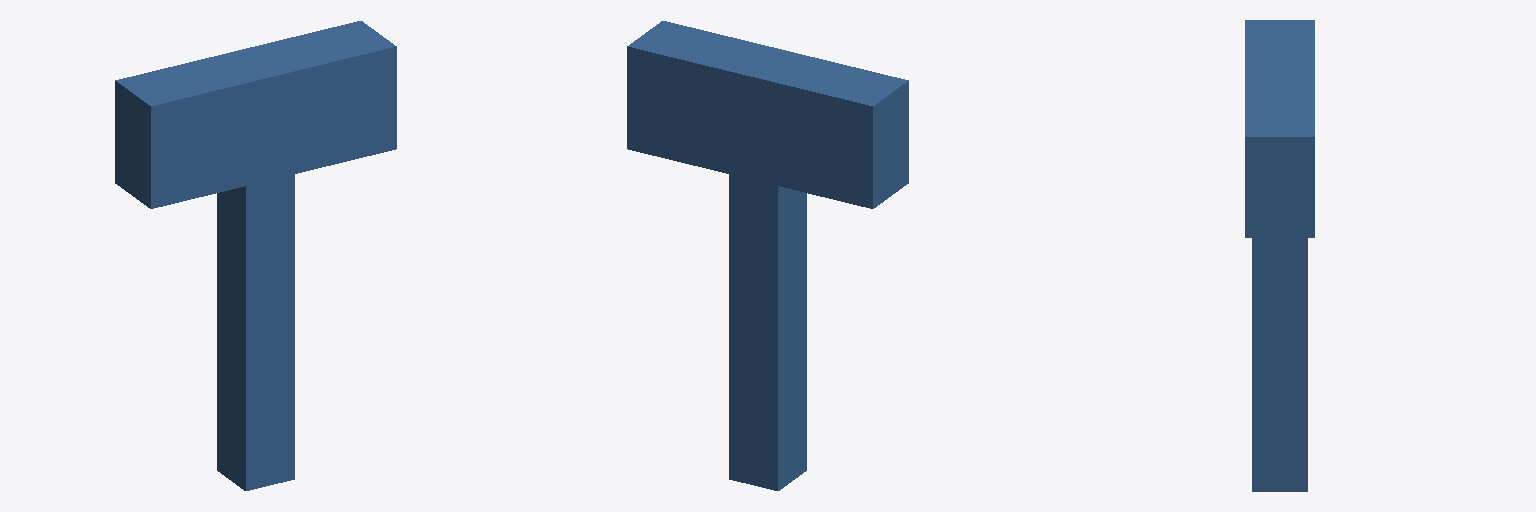
The robot description file, URDF, robot "hammer.urdf":
<?xml version="0.0" ?>
<robot name="hammer.urdf">
  <link name="baseLink">
    <contact>
      <lateral_friction value="1.0"/>
      <rolling_friction value="0.0001"/>
      <inertia_scaling value="3.0"/>
    </contact>
    <inertial>
      <origin rpy="0 0 0" xyz="0 0 0.04"/>
       <mass value=".1"/>
       <inertia ixx="1" ixy="0" ixz="0" iyy="1" iyz="0" izz="1"/>
    </inertial>
    <visual>
      <origin rpy="0 0 0" xyz="0 0 0"/>
      <geometry>
        <!-- <cylinder radius=".01" length="0.16"/> -->
        <box size=".02 .02 .16"/>
      </geometry>
      <material name="green">
        <color rgba="0.3059 0.4745 0.6549 1"/>
      </material>
    </visual>
    <visual>
      <origin rpy="0 0 0" xyz="0 0 0.06"/>
      <geometry>
        <box size=".1 .025 .04"/>
      </geometry>
      <material name="green">
        <color rgba="0.3059 0.4745 0.6549 1"/>
      </material>
    </visual>
    <collision>
      <origin rpy="0 0 0" xyz="0 0 0"/>
      <geometry>
        <!-- <cylinder radius=".01" length="0.16"/> -->
        <box size=".02 .02 .16"/>
      </geometry>
    </collision>
    <collision>
      <origin rpy="0 0 0" xyz="0 0 0.06"/>
      <geometry>
        <box size=".1 .025 .04"/>
      </geometry>
    </collision>
  </link>
</robot>

--- What the picture shows (computed from the rendered views, not written in the file) ---
The picture shows the robot from 3 angles, left to right: view 1: azimuth 30°, elevation 25°; view 2: azimuth 150°, elevation 25°; view 3: azimuth 270°, elevation 25°; orthographic projection.
Model hammer.urdf with 1 links and 0 joints (none), rooted at baseLink, posed every joint at zero.
Links seen in each view (by area): view 1: baseLink; view 2: baseLink; view 3: baseLink.
Boxes of the visible links, left/top/right/bottom form: baseLink: left=115, top=21, right=396, bottom=490; baseLink: left=627, top=21, right=908, bottom=490; baseLink: left=1245, top=20, right=1314, bottom=491.
Bounding box of the posed robot: 0.1 × 0.025 × 0.16 m (x, y, z).
Geometry: primitives only (box / cylinder / sphere), no mesh files.